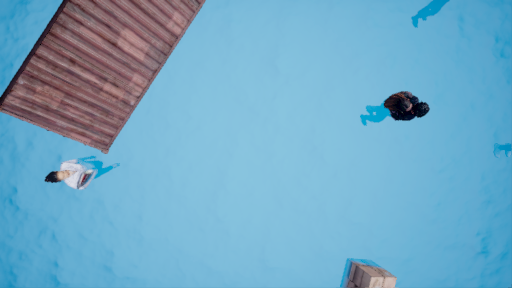person: (357, 89, 433, 135), (42, 157, 123, 194)
